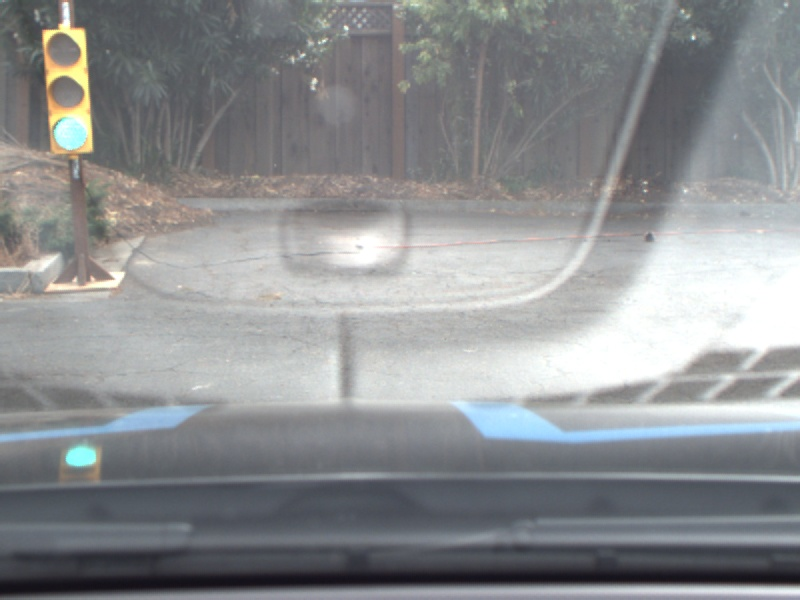green: (34, 20, 98, 161)
